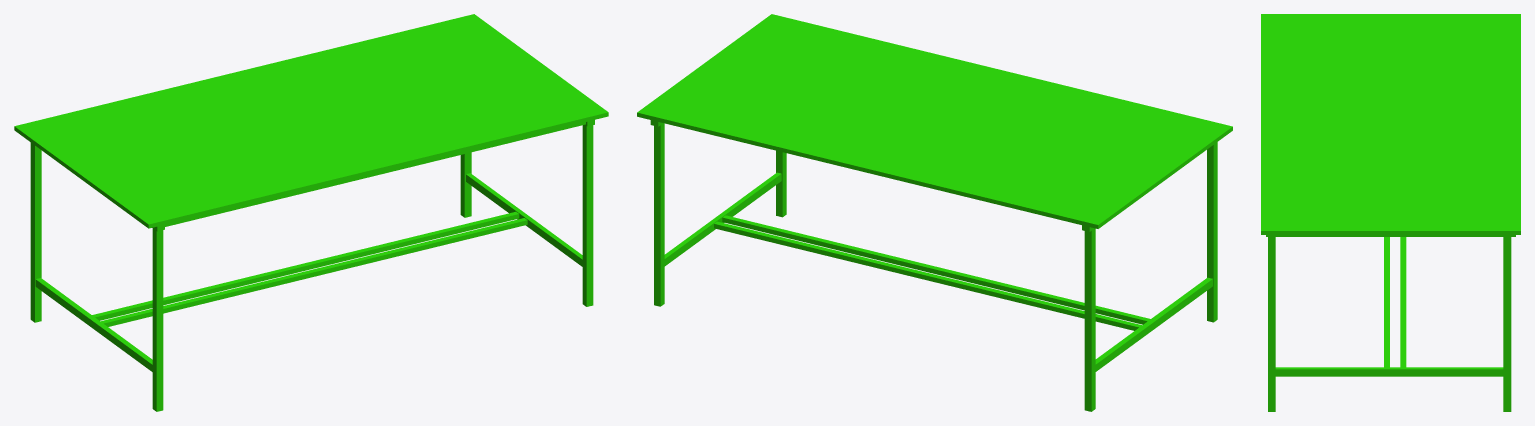
The model's file is Table_04_Lod0.fbx.
3 views of the same model, side by side, from view 1: azimuth 30°, elevation 25°; view 2: azimuth 150°, elevation 25°; view 3: azimuth 270°, elevation 25° (orthographic). The views are drawn at different scales.
Parts seen in each view (by area): view 1: Table_04_Lod0; view 2: Table_04_Lod0; view 3: Table_04_Lod0.
Boxes of the visible parts, x1,y1,x2,y2 form: Table_04_Lod0: (14,14,608,411); Table_04_Lod0: (637,14,1232,411); Table_04_Lod0: (1261,14,1520,411).
Size of the model in its own units: 207 by 82.96 by 105.
